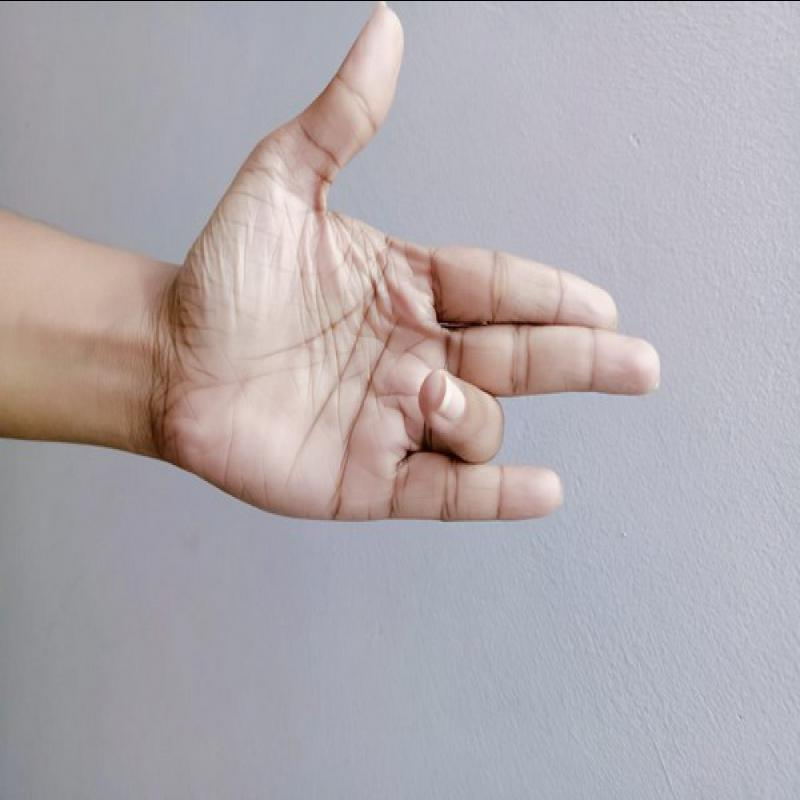Pathaaka: (130, 1, 671, 534)
